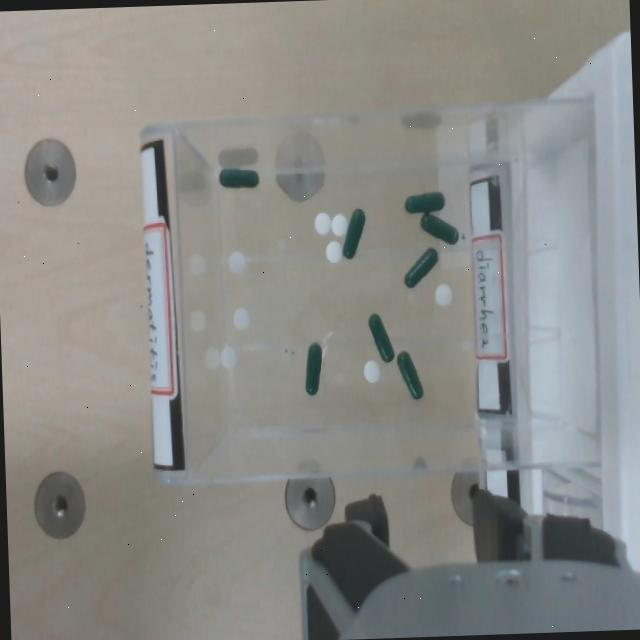ganakan_tab: (362, 357, 382, 386), (324, 239, 343, 265), (330, 212, 349, 238), (313, 209, 331, 236), (227, 249, 246, 274), (434, 282, 452, 307), (220, 344, 237, 369), (232, 306, 250, 329)
monodoxy_cap: (402, 245, 439, 289), (396, 349, 424, 401), (419, 211, 460, 246), (367, 311, 394, 364), (341, 207, 367, 261), (403, 247, 437, 286), (397, 350, 422, 399), (368, 313, 393, 361), (420, 212, 458, 243), (342, 207, 365, 258), (303, 341, 323, 396), (404, 188, 446, 214), (219, 165, 261, 190), (404, 192, 444, 213), (305, 342, 321, 394), (219, 167, 258, 187)
